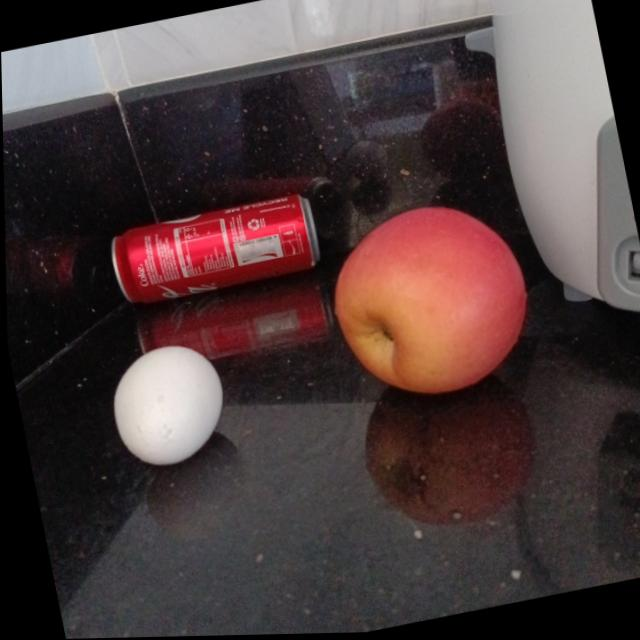apple: (317, 193, 541, 409)
coke: (104, 192, 324, 312)
egg: (99, 339, 231, 474)
